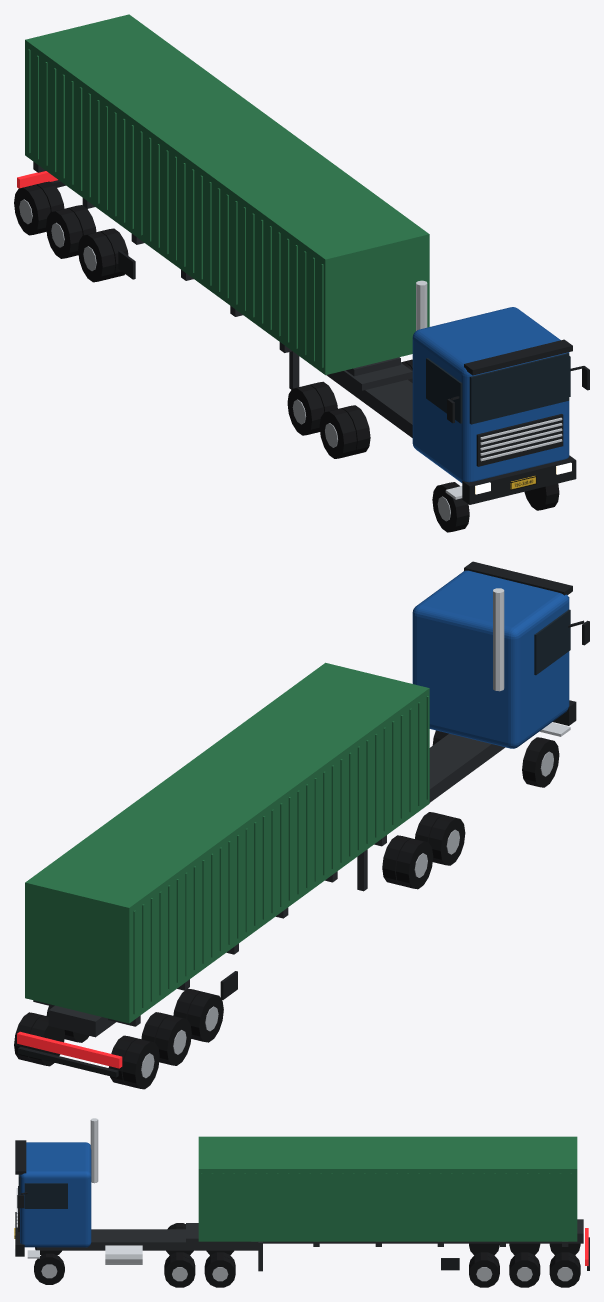
The model's file is truck_c.glb.
3 views of the same model, one above another, from view 1: azimuth 30°, elevation 25°; view 2: azimuth 150°, elevation 25°; view 3: azimuth 270°, elevation 25° (orthographic). The views are drawn at different scales.
Visible parts, largest first — view 1: truck; view 2: truck; view 3: truck.
Boxes of the visible parts, <box> form: truck: <box>14,14,589,532</box>; truck: <box>14,561,589,1089</box>; truck: <box>14,1118,589,1287</box>.
Bounding box in the file's own units: 3.22 × 4.89 × 18.54.
11 materials, 1 textured.
